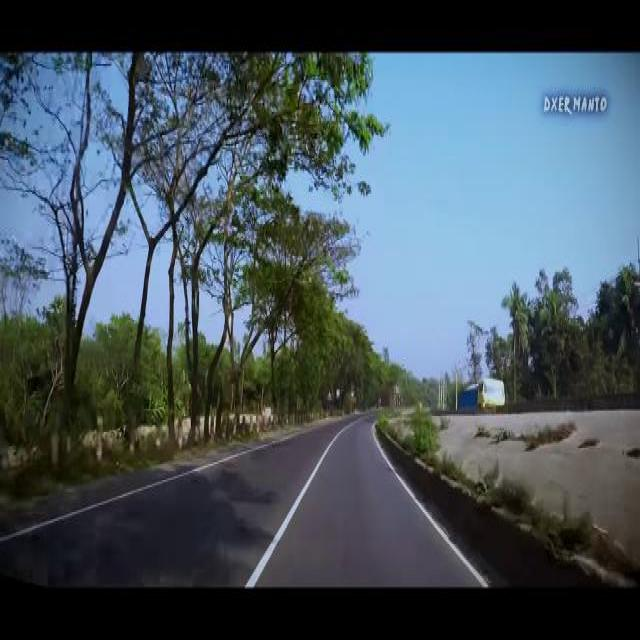vehicle: (457, 375, 507, 413)
